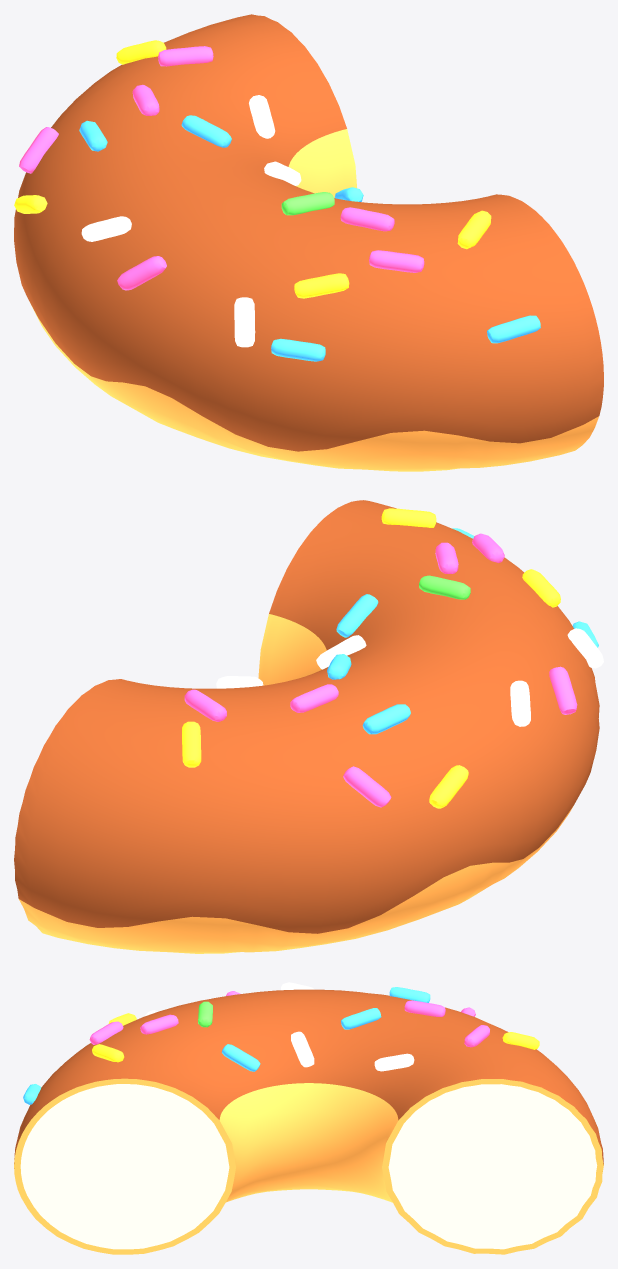
The picture shows the model from 3 angles, top to bottom: view 1: azimuth 30°, elevation 25°; view 2: azimuth 150°, elevation 25°; view 3: azimuth 270°, elevation 25°; orthographic projection. The views are drawn at different scales.
Visible parts, largest first — view 1: Donut-left; view 2: Donut-left; view 3: Donut-left.
Part boxes in pixels (x1=…): Donut-left: x1=14, y1=14, x2=603, y2=471; Donut-left: x1=14, y1=500, x2=603, y2=953; Donut-left: x1=14, y1=982, x2=603, y2=1254.
Bounding box in the file's own units: 0.0367 × 0.0256 × 0.0739.
